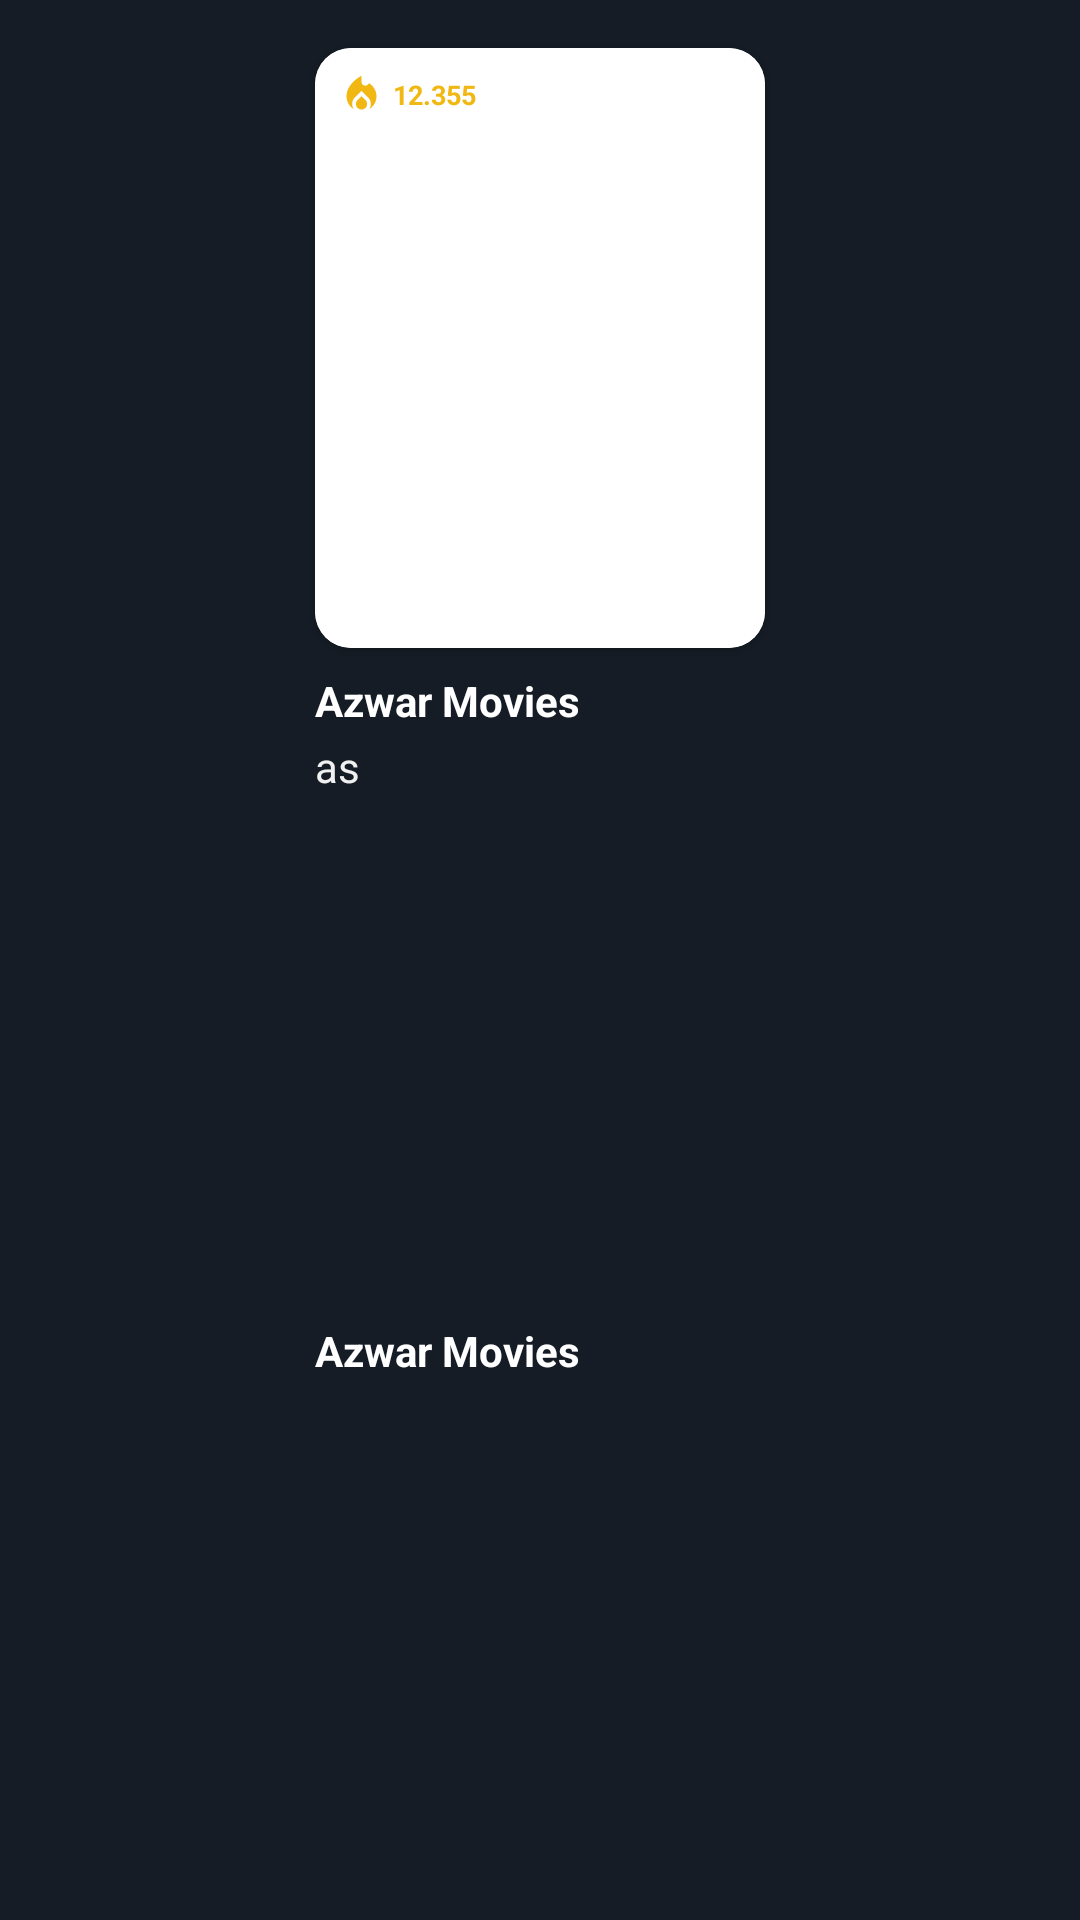

Icon bounding boxes for this 1080px×1920px phone screenshot, format (x1, y1, x2, y2):
local fire department: (346, 76, 377, 110)
